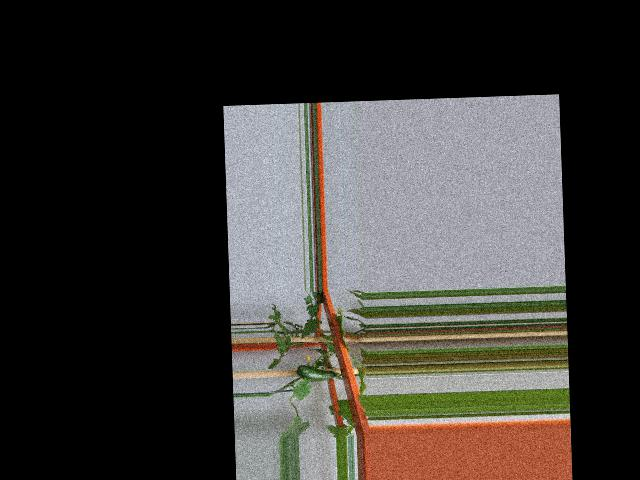cucumber: (292, 363, 335, 382)
